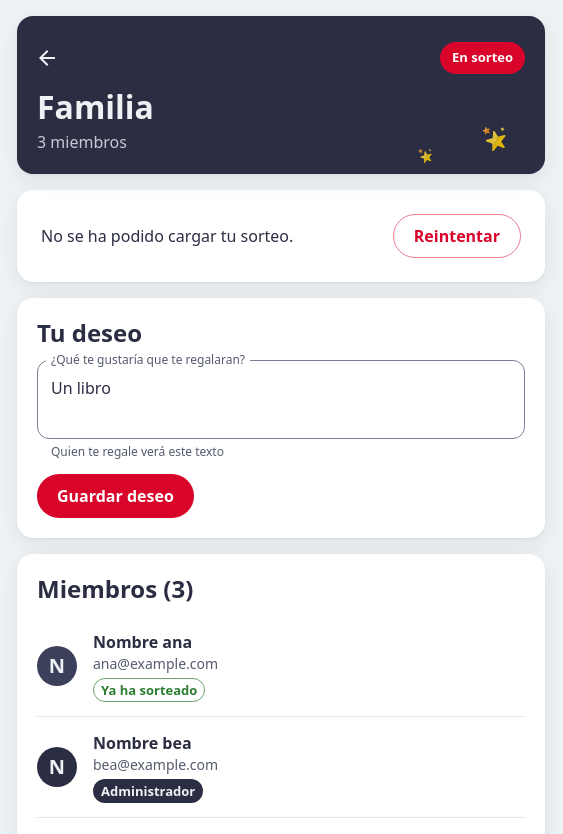
Scenario: dashboard › lets the member retry when their draw cannot be loaded
The image size is (563, 834).
Click the button "Reintentar": (457, 236) [393,214,521,258]
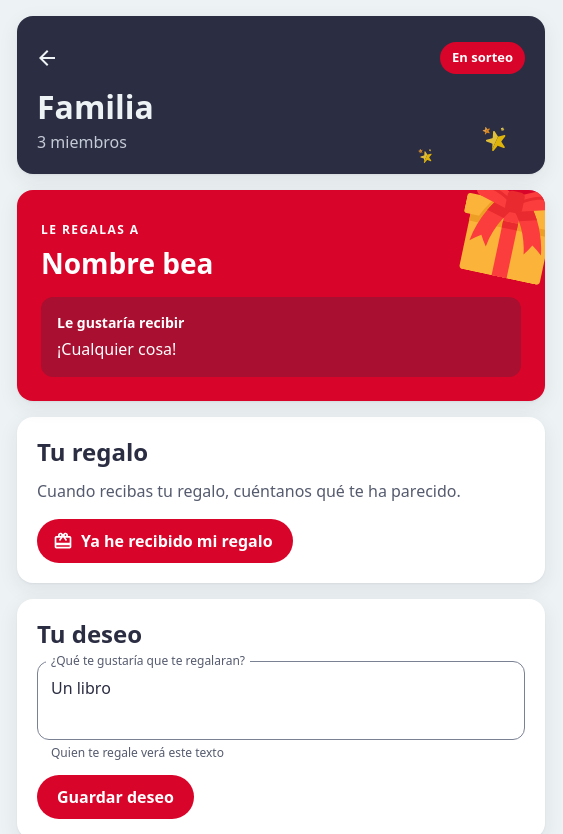
Expected: the heading "Nombre bea" is shown, [41,244,214,282]
